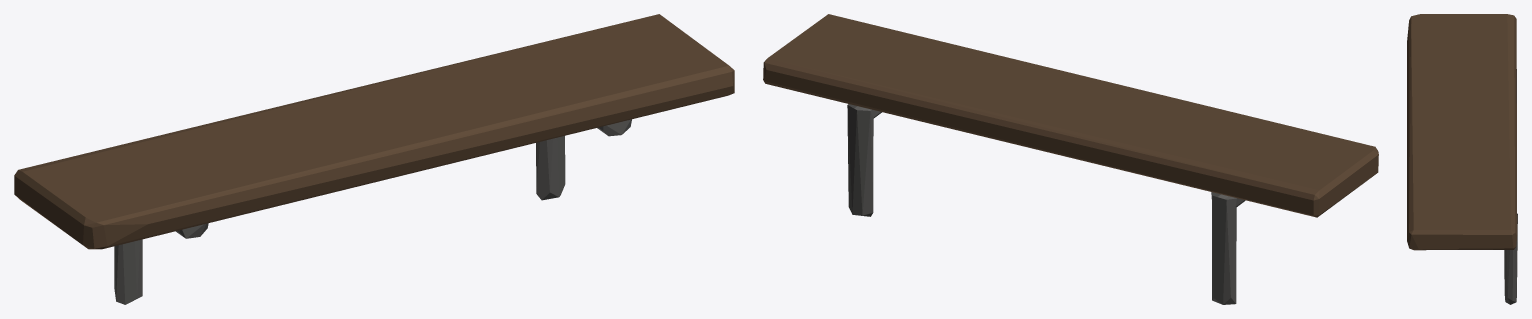
File: Shelf.fbx
The picture shows the model from 3 angles, left to right: view 1: azimuth 30°, elevation 25°; view 2: azimuth 150°, elevation 25°; view 3: azimuth 270°, elevation 25°; orthographic projection. The views are drawn at different scales.
Visible parts, largest first — view 1: ShelfLowPoly; view 2: ShelfLowPoly; view 3: ShelfLowPoly.
Boxes of the visible parts, <box> form: ShelfLowPoly: <box>14,14,734,304</box>; ShelfLowPoly: <box>763,14,1378,304</box>; ShelfLowPoly: <box>1407,14,1517,304</box>.
Bounding box in the file's own units: 99.81 × 23.18 × 21.4.
